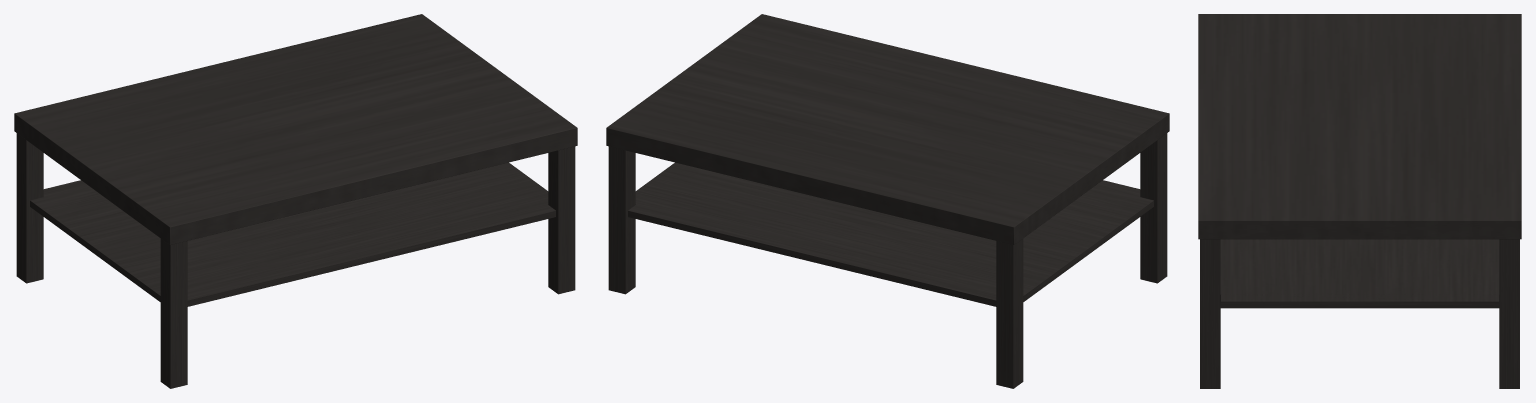
Rendered from black_coffee_table.glb.
3 views of the same model, side by side, from view 1: azimuth 30°, elevation 25°; view 2: azimuth 150°, elevation 25°; view 3: azimuth 270°, elevation 25° (orthographic). The views are drawn at different scales.
Parts seen in each view (by area): view 1: Tabletop_118x78cm, Lower_Shelf, Front_Left_Leg, Front_Right_Leg, Rear_Left_Leg; view 2: Tabletop_118x78cm, Lower_Shelf, Rear_Left_Leg, Rear_Right_Leg, Front_Left_Leg; view 3: Tabletop_118x78cm, Lower_Shelf, Front_Right_Leg, Rear_Right_Leg.
Boxes of the visible parts, x1,y1,x2,y2 form: Tabletop_118x78cm: (14,14,577,244); Lower_Shelf: (30,162,555,306); Front_Left_Leg: (160,239,187,388); Front_Right_Leg: (548,146,575,294); Rear_Left_Leg: (16,133,43,283); Tabletop_118x78cm: (606,14,1169,244); Lower_Shelf: (628,162,1153,306); Rear_Left_Leg: (996,239,1023,388); Rear_Right_Leg: (608,146,635,294); Front_Left_Leg: (1140,133,1167,283); Tabletop_118x78cm: (1198,14,1521,239); Lower_Shelf: (1220,239,1499,308); Front_Right_Leg: (1200,239,1220,388); Rear_Right_Leg: (1499,239,1519,388).
Bounding box in the file's own units: 1.18 × 0.45 × 0.78.
Materials: 1 (1 with a texture image).
